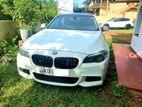car: (17, 14, 111, 88), (100, 16, 135, 30)
